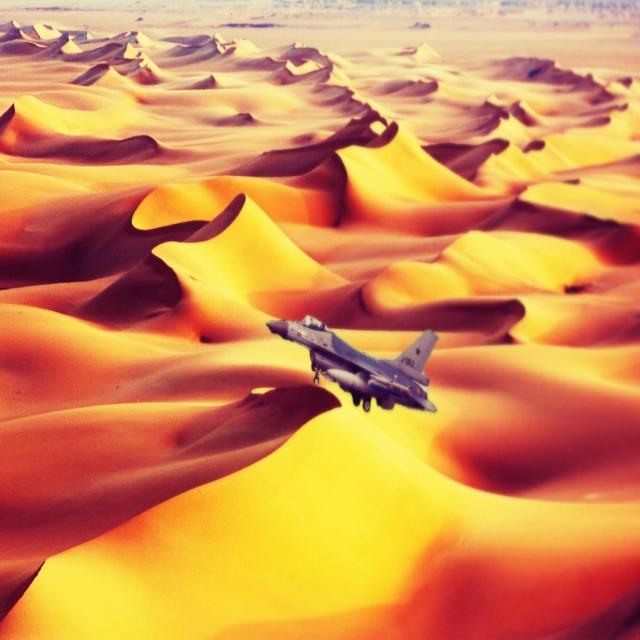airplane: (265, 312, 439, 413)
